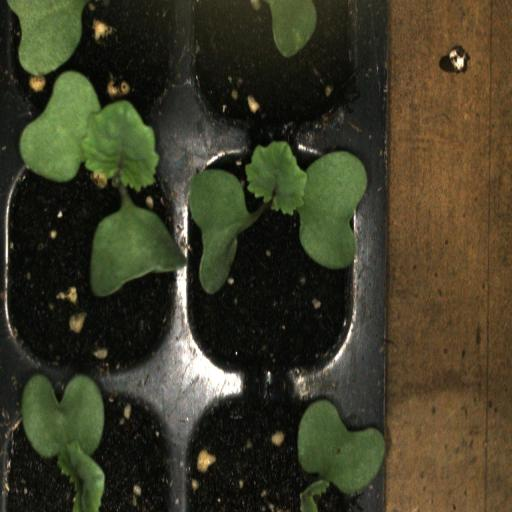seedling: (180, 138, 371, 388), (2, 138, 182, 384)
